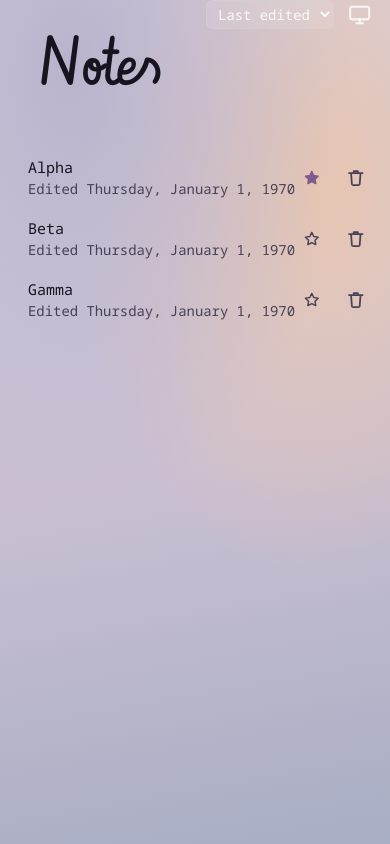
Scenario: deleting from a row asks first › does not trash on the click alone
The image size is (390, 844).
What coordinates should you click on to do the following:
click the button named "Move Beta to Trash"
I would click on:
 (356, 239)
Its box is [338, 221, 374, 257].
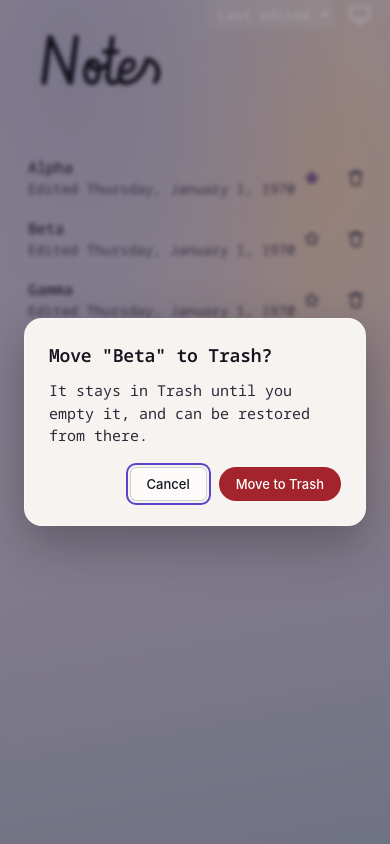
Check: the dialog is shown, box [24, 318, 366, 526]
